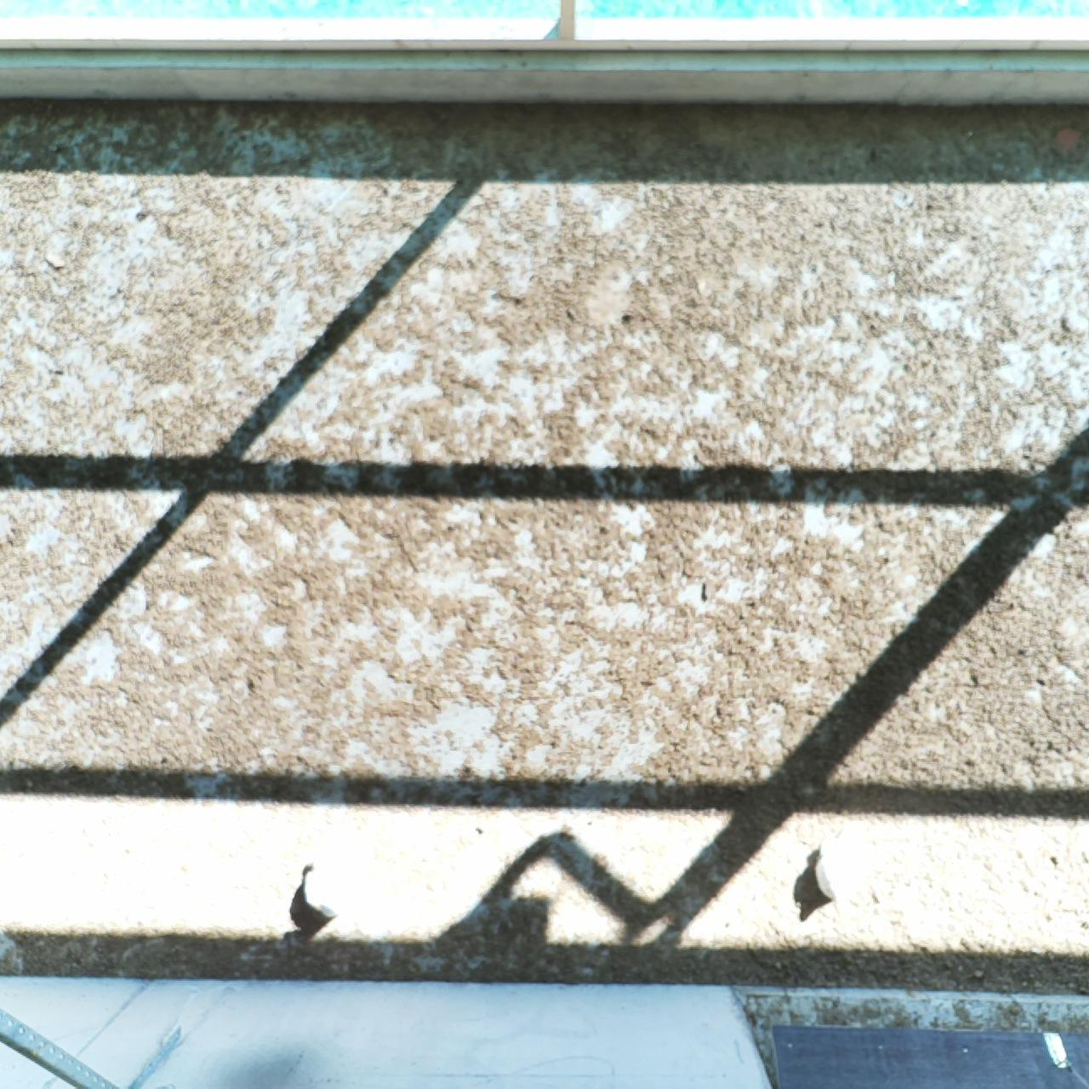chicken: (805, 830, 874, 918), (298, 835, 365, 921)
